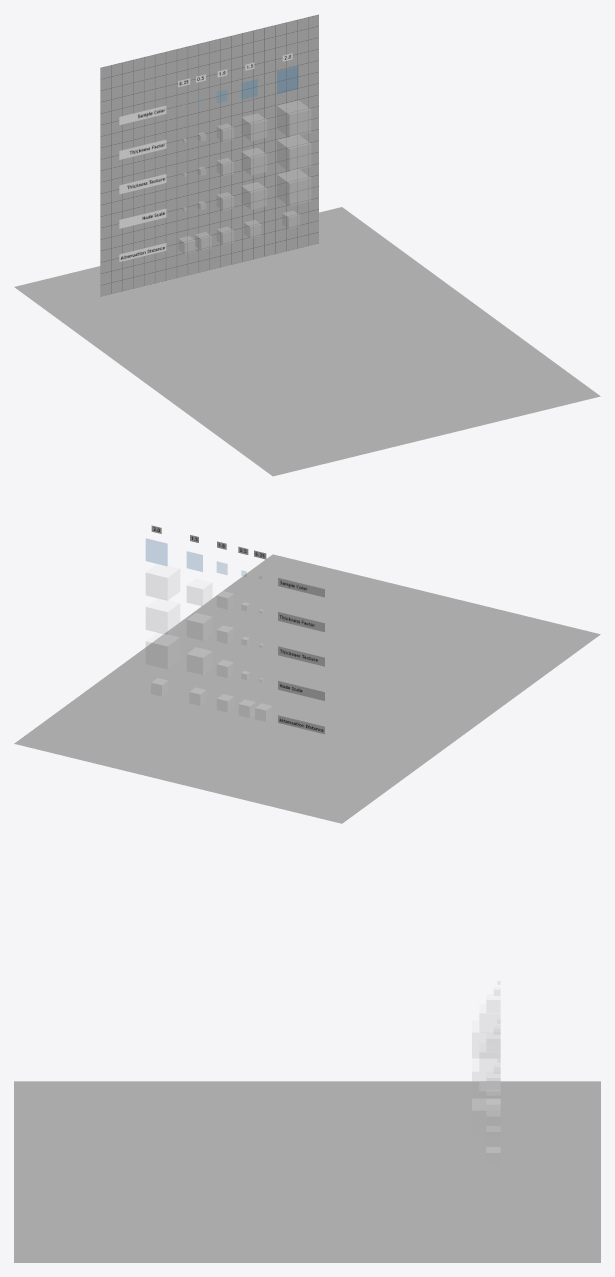
3 renders of one model, top to bottom at view 1: azimuth 30°, elevation 25°; view 2: azimuth 150°, elevation 25°; view 3: azimuth 270°, elevation 25°, orthographic. The views are drawn at different scales.
Visible parts, largest first — view 1: floor, MeterGrid, Labels, R3_Block_Row, R2_Block_2.0, R4_Block_2.0; view 2: floor, Labels, R3_Block_Row, R2_Block_2.0, R4_Block_2.0, R4_Block_1.5, R2_Block_1.5, R1_Sample_2.0; view 3: floor, R3_Block_Row, R2_Block_2.0, R4_Block_2.0, R2_Block_1.5, R4_Block_1.5.
Boxes of the visible parts, x1,y1,x2,y2 form: floor: [14, 207, 600, 476]; MeterGrid: [100, 14, 318, 296]; Labels: [119, 53, 292, 261]; R3_Block_Row: [183, 135, 310, 176]; R2_Block_2.0: [277, 101, 310, 137]; R4_Block_2.0: [277, 169, 310, 205]; floor: [14, 554, 600, 823]; Labels: [151, 525, 324, 734]; R3_Block_Row: [146, 598, 262, 647]; R2_Block_2.0: [146, 564, 179, 600]; R4_Block_2.0: [146, 632, 179, 668]; R4_Block_1.5: [187, 647, 212, 674]; R2_Block_1.5: [187, 579, 212, 605]; R1_Sample_2.0: [146, 539, 167, 565]; floor: [14, 1081, 600, 1262]; R3_Block_Row: [472, 1019, 500, 1097]; R2_Block_2.0: [472, 1021, 500, 1058]; R4_Block_2.0: [472, 1099, 500, 1136]; R2_Block_1.5: [479, 1004, 500, 1032]; R4_Block_1.5: [479, 1082, 500, 1109].
Bounding box in the file's own units: 30 × 20 × 41.
Materials: 19 (2 with a texture image).
